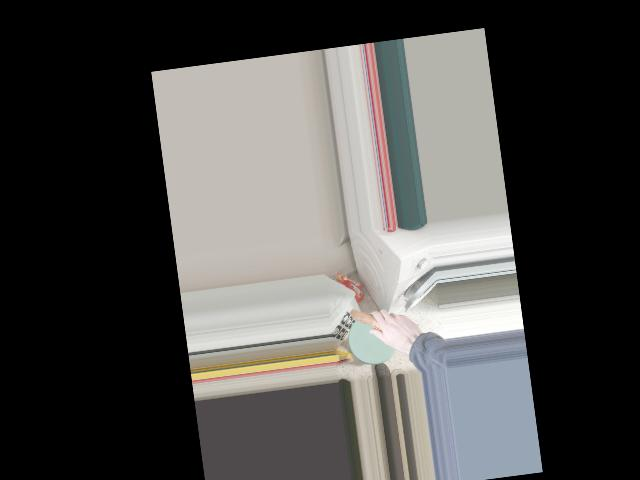sweet_potato: (351, 302, 406, 347)
